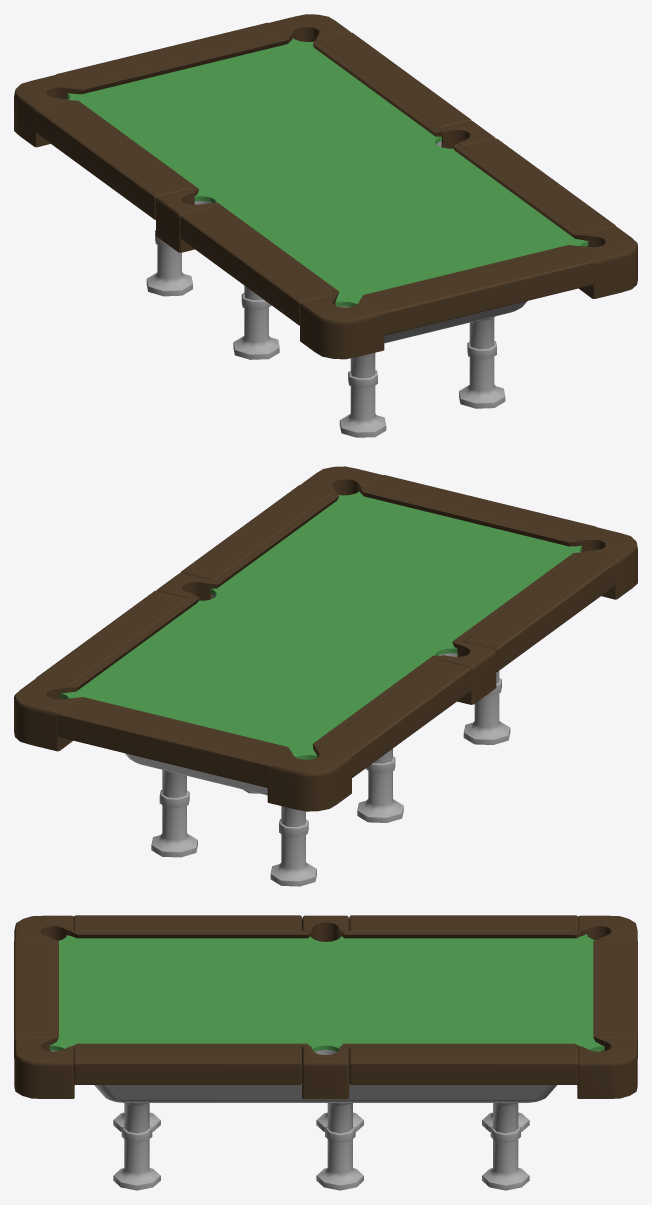
Rendered from BillardTable_2.fbx.
3 renders of one model, top to bottom at view 1: azimuth 30°, elevation 25°; view 2: azimuth 150°, elevation 25°; view 3: azimuth 270°, elevation 25°, orthographic. The views are drawn at different scales.
Parts seen in each view (by area): view 1: BillardTable_2; view 2: BillardTable_2; view 3: BillardTable_2.
Boxes of the visible parts, bbox=[...] form: BillardTable_2: bbox=[14, 14, 637, 437]; BillardTable_2: bbox=[14, 466, 637, 886]; BillardTable_2: bbox=[14, 915, 637, 1190].
Bounding box in the file's own units: 163 × 84.95 × 290.
